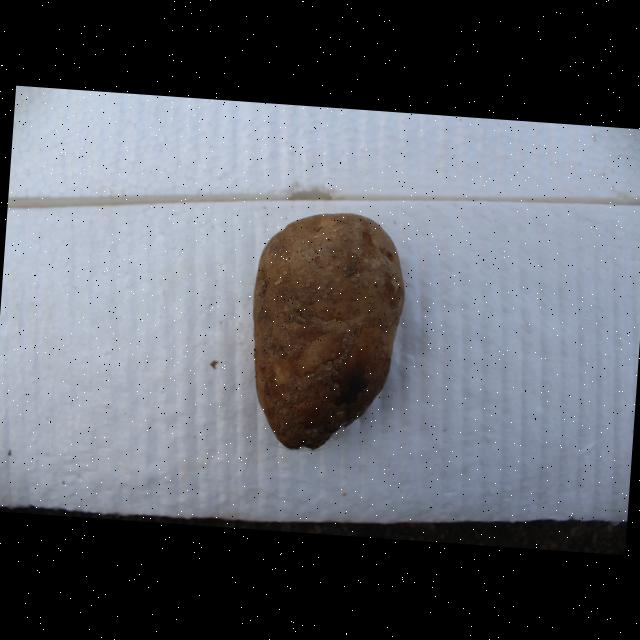Diseased-fungal potato: (238, 205, 412, 458)
